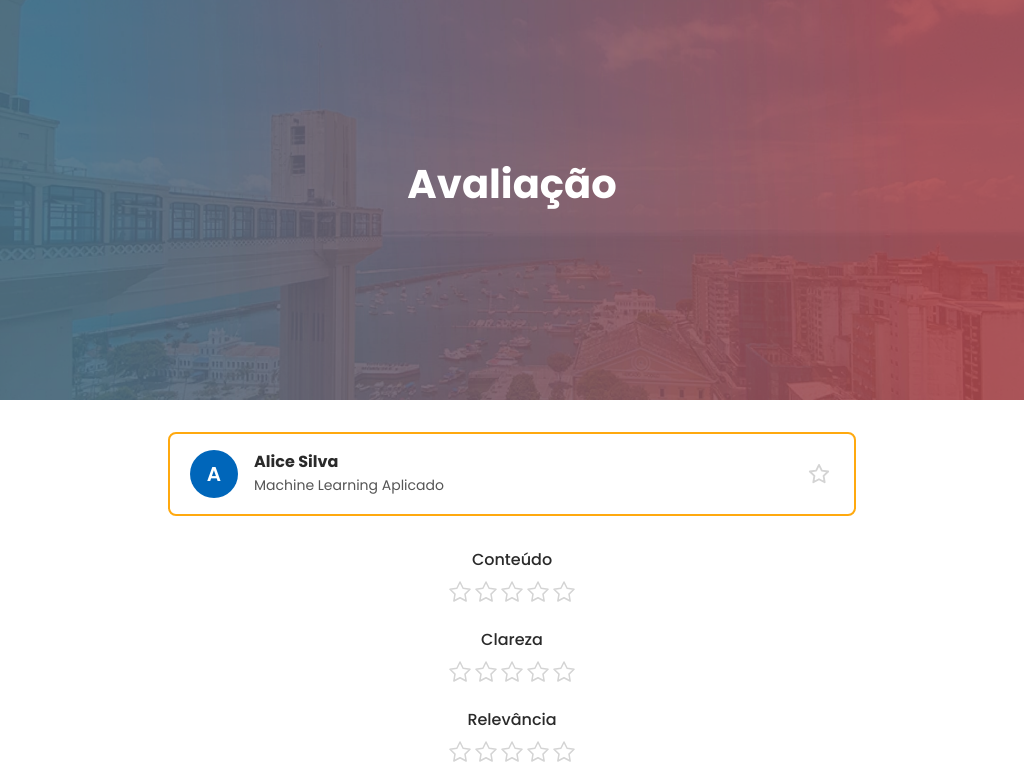
it: AvaliacaoFormPage › submits all evaluations on success
Expected: the text "Conteúdo" is shown, [472,548,552,572]
Expected: the number of elements named "Avaliação por estrelas" is 3, [448,580,576,604]; [448,660,576,684]; [448,740,576,764]
Click the button named "4 estrelas" below "Conteúdo".
click(538, 592)  # box [526,580,550,604]
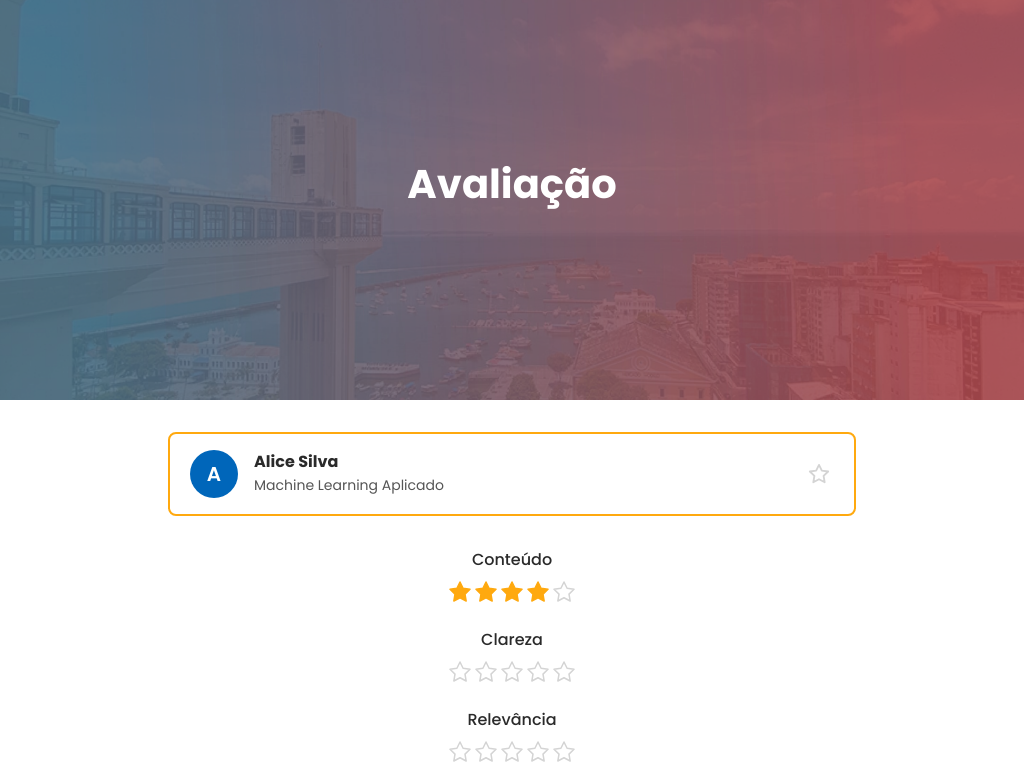
Click the button named "4 estrelas" below "Clareza".
click(538, 672)  # box [526,660,550,684]
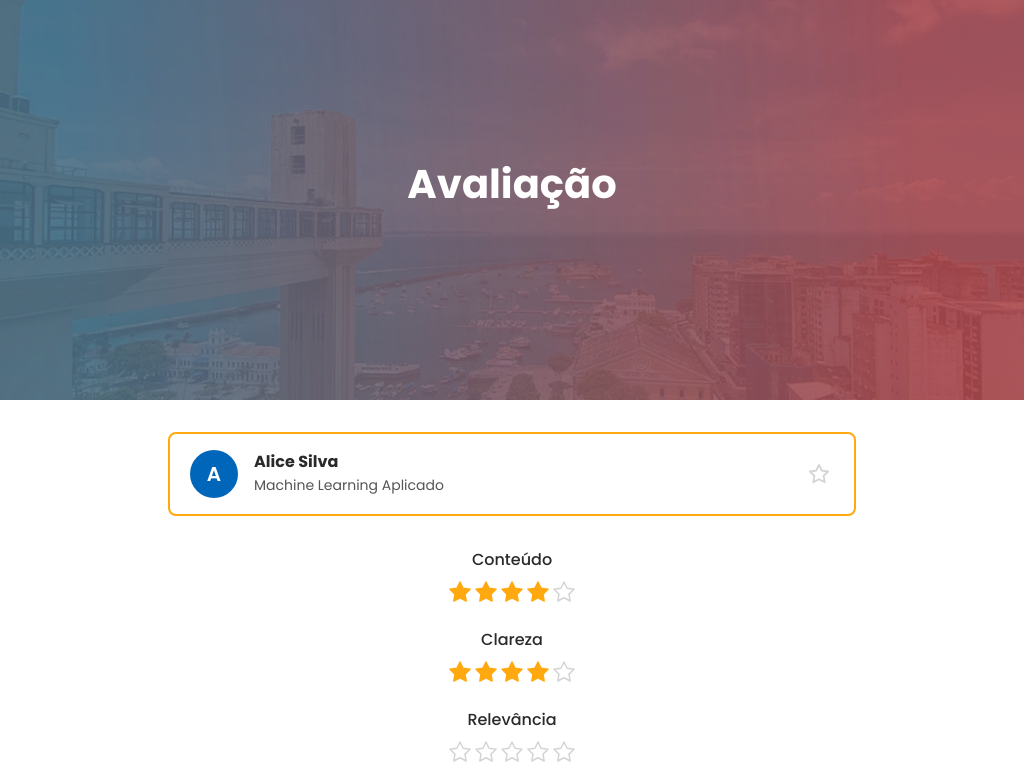
Click the button named "4 estrelas" below "Relevância".
click(538, 752)  # box [526,740,550,764]
(page scrolled)
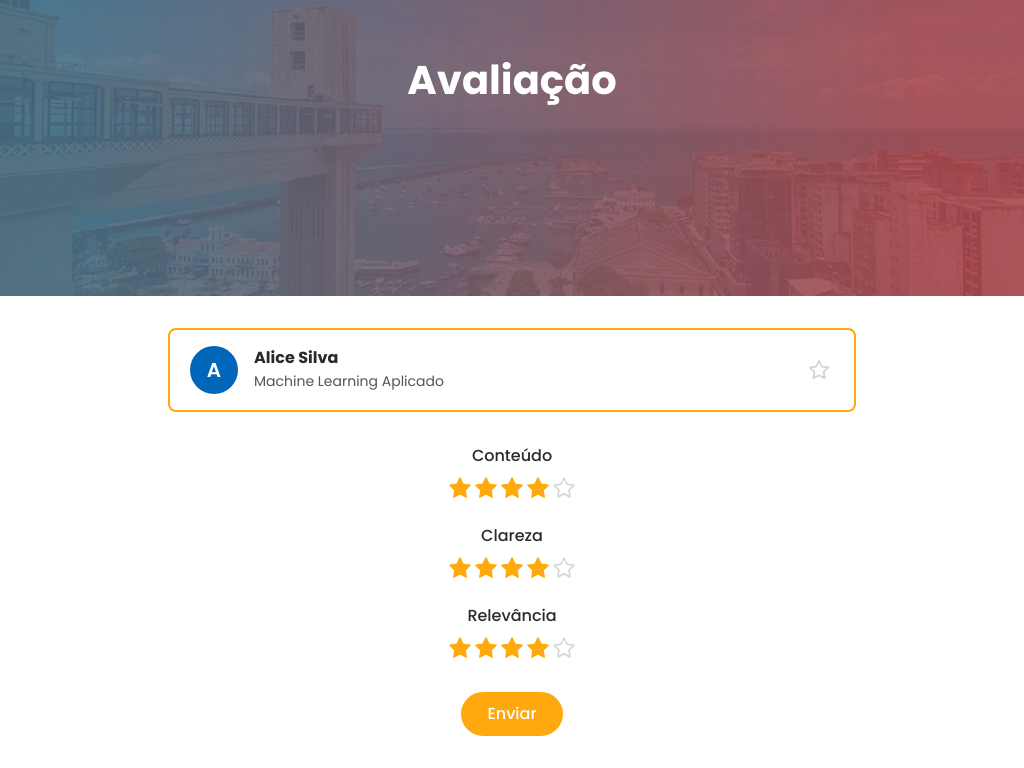
Click the button "Enviar".
click(512, 714)  # box [461,692,563,736]
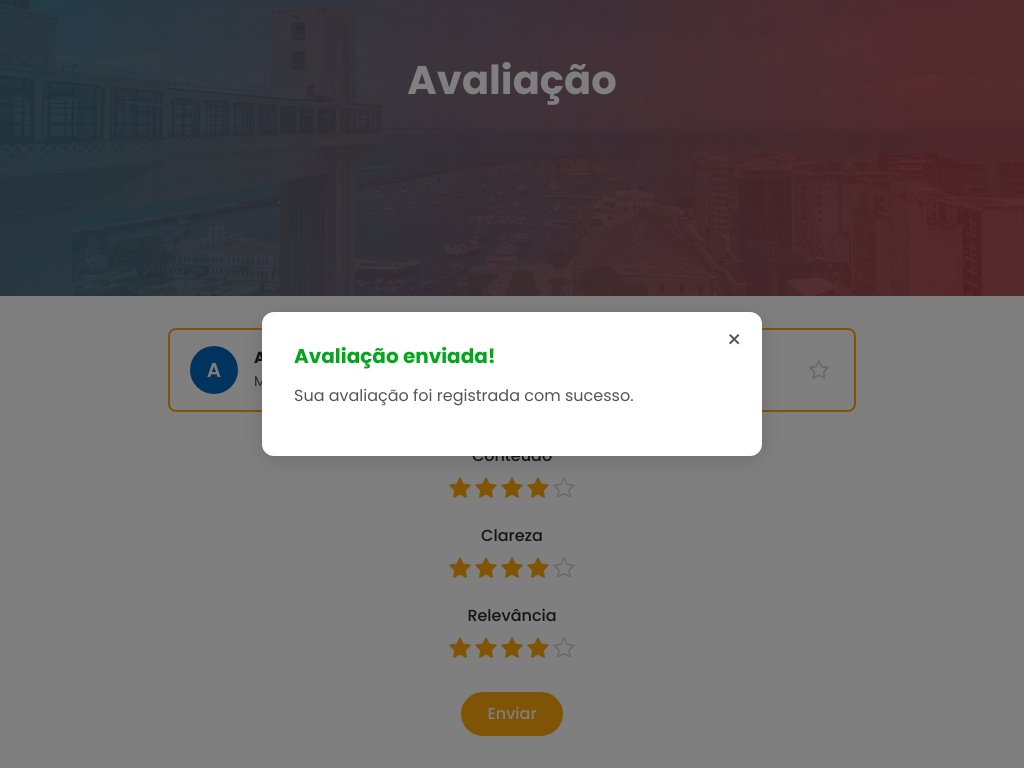
Expected: the heading "Avaliação enviada!" is shown, [294,342,496,370]
